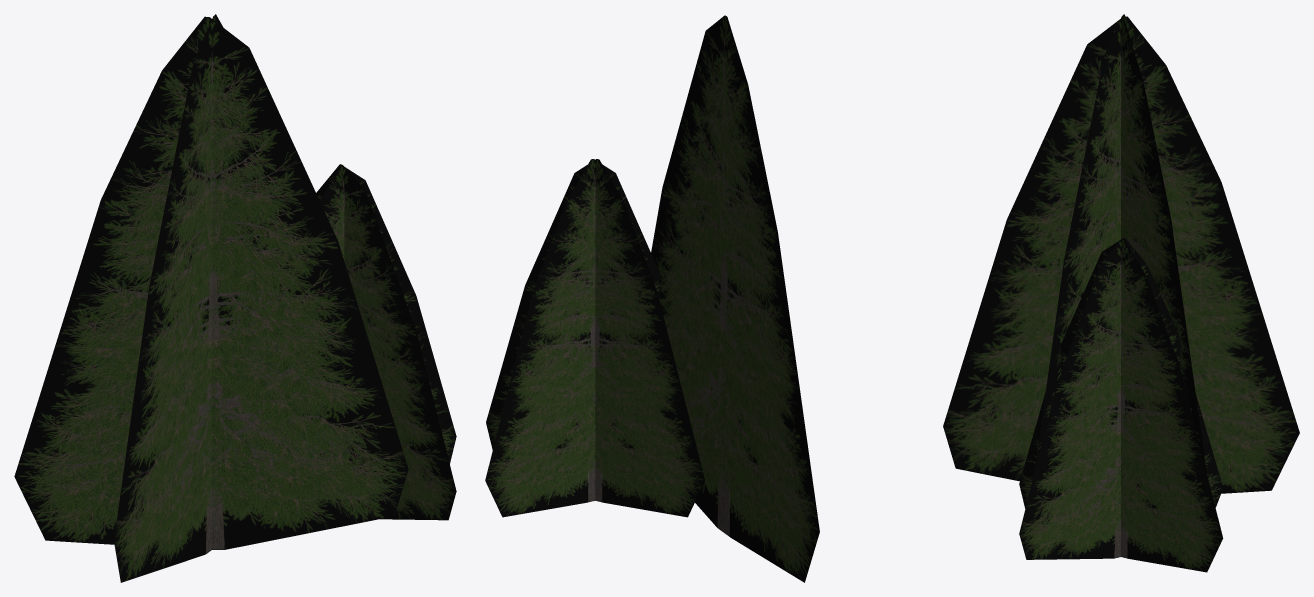
Rendered from Moncler.glb.
The picture shows the model from 3 angles, left to right: view 1: azimuth 30°, elevation 25°; view 2: azimuth 150°, elevation 25°; view 3: azimuth 270°, elevation 25°; orthographic projection. The views are drawn at different scales.
Visible parts, largest first — view 1: Eastern Hemlock.001; view 2: Eastern Hemlock.001; view 3: Eastern Hemlock.001.
Part boxes in pixels (box(x1,y1,x2,y2)): Eastern Hemlock.001: box(14, 14, 456, 582); Eastern Hemlock.001: box(485, 15, 819, 582); Eastern Hemlock.001: box(943, 14, 1299, 572).
Size of the model in its own units: 23.94 by 31.04 by 20.81.
Materials: 1 (1 with a texture image).
